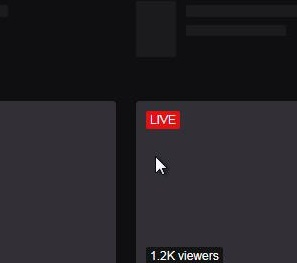cursor: (150, 152, 171, 179)
